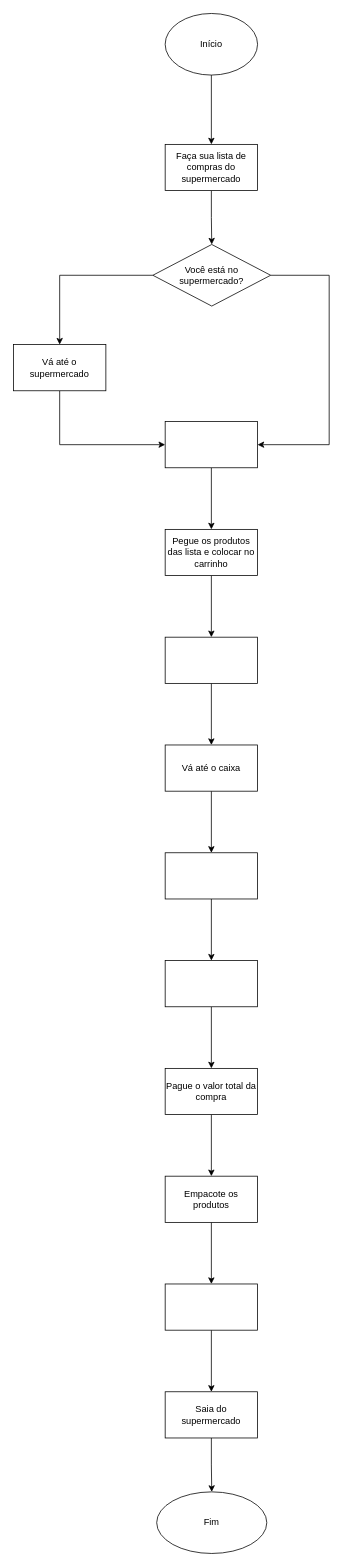
Image size: 349x1567. Some labels were removed from this diagram. The shapes that lost their labels are listed below. From the top down, each one's box as (x1, y1, x2, y2) in pixels, then its label:
(164, 421, 258, 468): Pegue um carrinho de compras
(164, 636, 258, 683): Compare preço dos produtos que tenha na lista e no carrinho
(164, 852, 258, 899): Coloque cada o produto no balcão do caixa
(164, 960, 258, 1007): Calcule o valor total somando o valor de todos os produto
(164, 1283, 258, 1330): Coloque os produtos empacatados de volta ao carrinho
